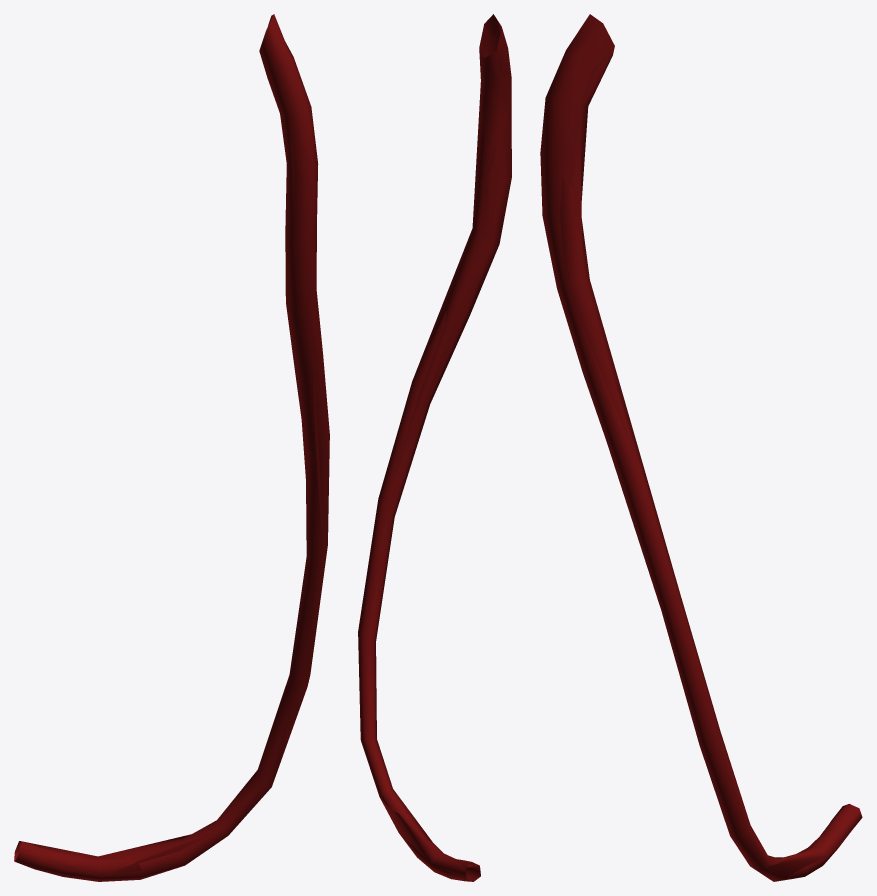
File: R radialis.fbx
The picture shows the model from 3 angles, left to right: view 1: azimuth 30°, elevation 25°; view 2: azimuth 150°, elevation 25°; view 3: azimuth 270°, elevation 25°; orthographic projection. The views are drawn at different scales.
Parts seen in each view (by area): view 1: R radialis, R radialis low; view 2: R radialis, R radialis low; view 3: R radialis, R radialis low.
Boxes of the visible parts, x1,y1,x2,y2 form: R radialis: (15, 14, 329, 881); R radialis low: (14, 19, 324, 876); R radialis: (358, 14, 511, 881); R radialis low: (358, 14, 511, 881); R radialis: (540, 16, 859, 881); R radialis low: (560, 14, 862, 878).
Bounding box in the file's own units: 2.75 × 11.2 × 3.73.
